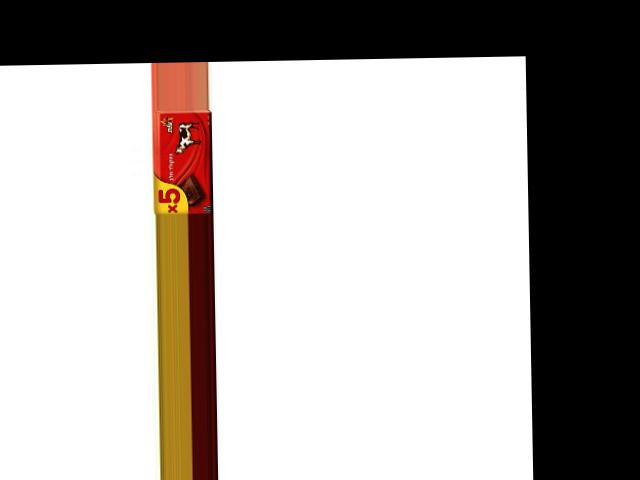chocolate: (150, 108, 212, 214)
